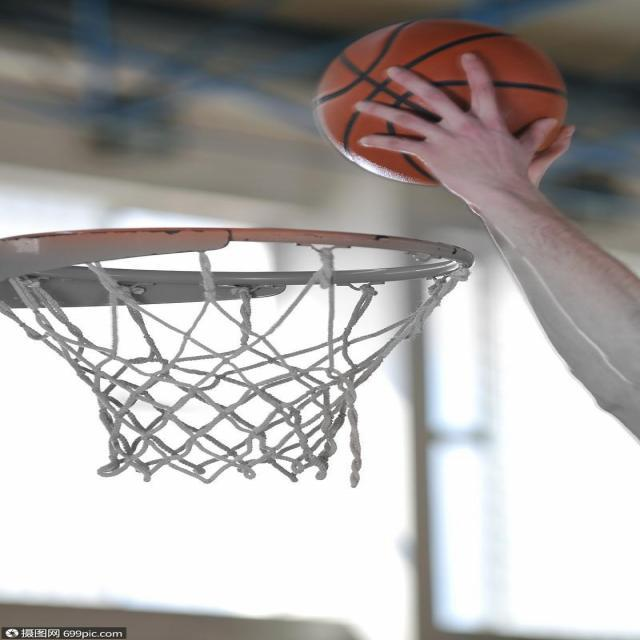rim: (318, 18, 568, 176)
